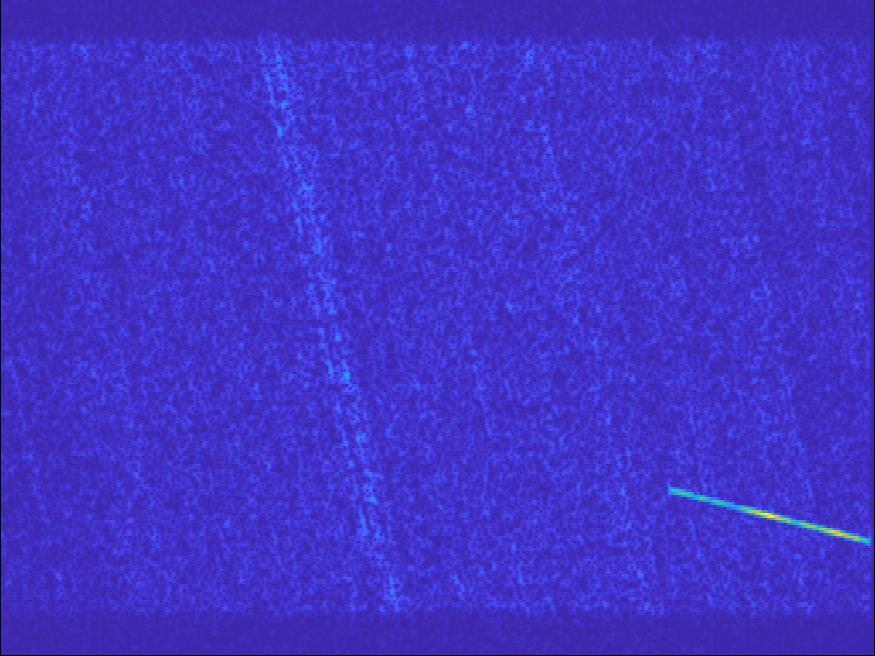Interference: (17, 331, 205, 481), (388, 283, 606, 369), (522, 394, 631, 453), (372, 3, 526, 44), (714, 304, 833, 357)
